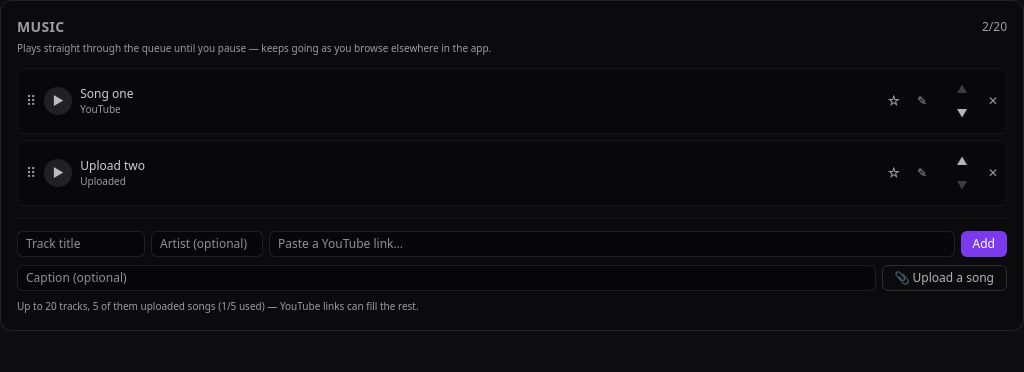
Test case: MusicPlayer › shows the server's message for a bad link
This screenshot has width=1024, height=372.
Type "nonsense" into the field with placeholder "Paste a YouTube link…".
click(612, 244); type("nonsense")  # box [269, 231, 955, 257]
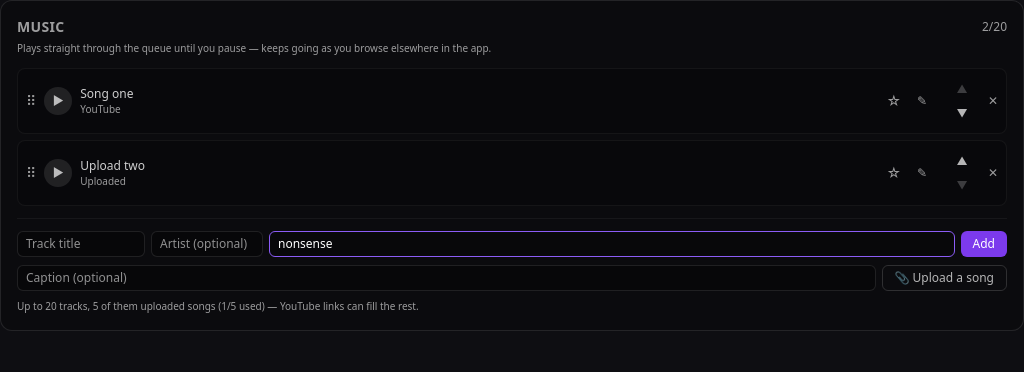
Click the button "Add".
click(984, 244)  # box [961, 231, 1007, 257]
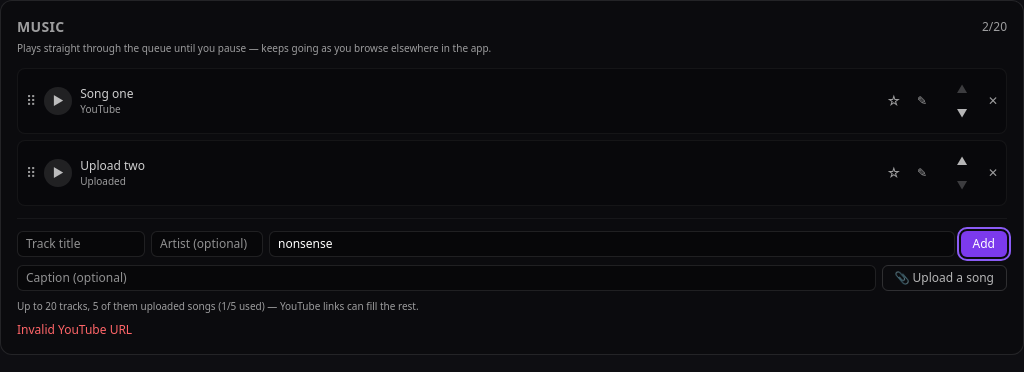
Expected: the text "Invalid YouTube URL" is shown, [17, 321, 132, 338]
